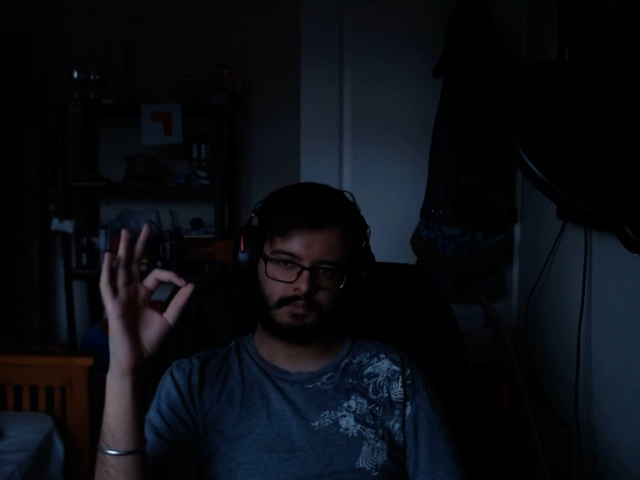Okay: (89, 212, 199, 381)
